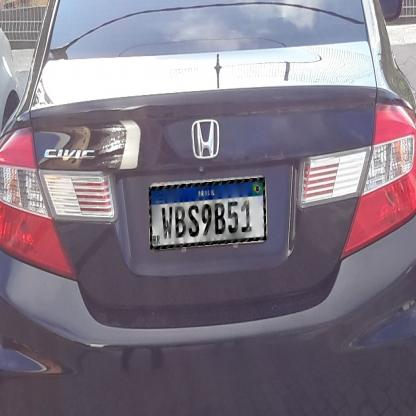PlacaM: (149, 178, 266, 250)
